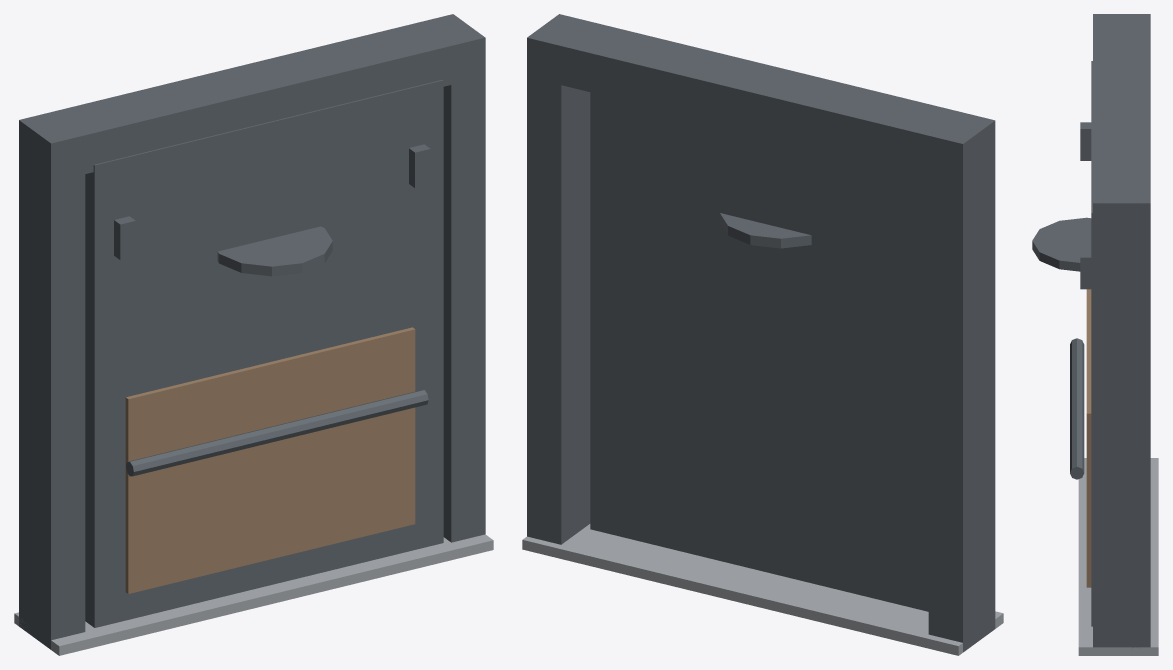
File: door_bulkhead_heavy.glb
3 renders of one model, left to right at view 1: azimuth 30°, elevation 25°; view 2: azimuth 150°, elevation 25°; view 3: azimuth 270°, elevation 25°, orthographic. The views are drawn at different scales.
Visible parts, largest first — view 1: P2_door_KIT_Steel, P2_door_KIT_Wood, P2_door_KIT_Concrete; view 2: P2_door_KIT_Steel, P2_door_KIT_Concrete; view 3: P2_door_KIT_Steel, P2_door_KIT_Concrete, P2_door_KIT_Wood.
Boxes of the visible parts, box(x1,y1,x2,y2) form: P2_door_KIT_Steel: box(19, 14, 485, 649); P2_door_KIT_Wood: box(125, 327, 415, 593); P2_door_KIT_Concrete: box(14, 534, 493, 655); P2_door_KIT_Steel: box(527, 14, 995, 652); P2_door_KIT_Concrete: box(522, 524, 1003, 655); P2_door_KIT_Steel: box(1032, 14, 1150, 647); P2_door_KIT_Concrete: box(1078, 458, 1158, 655); P2_door_KIT_Wood: box(1086, 289, 1091, 587).
Bounding box in the file's own units: 2.8 × 3.12 × 0.79.
